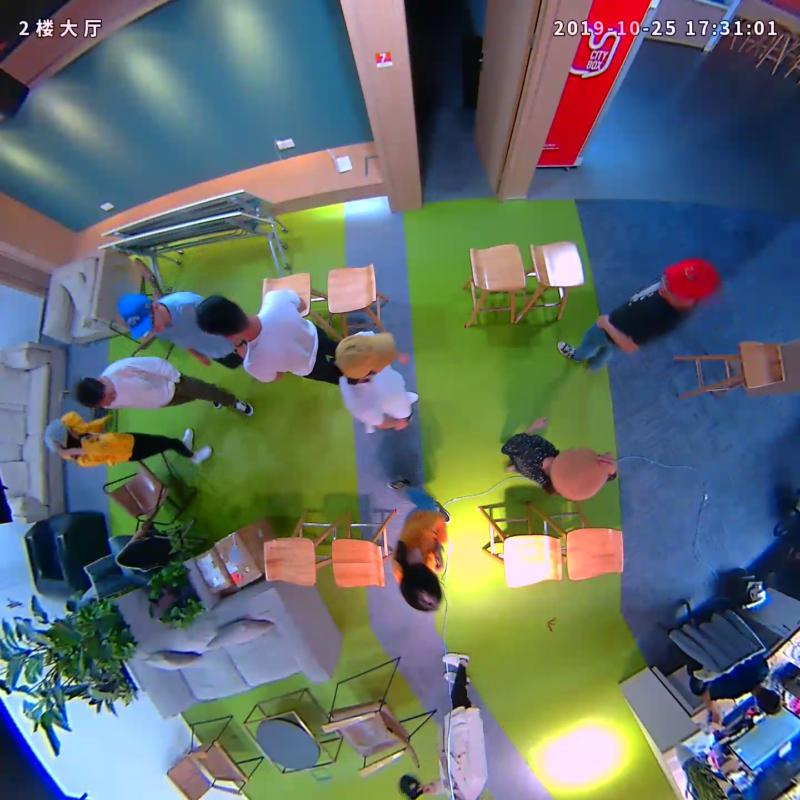head: (549, 446, 611, 502), (334, 330, 396, 380), (657, 256, 720, 304), (116, 292, 168, 340), (400, 561, 443, 613), (196, 295, 247, 336), (72, 376, 114, 409), (43, 419, 85, 450)
